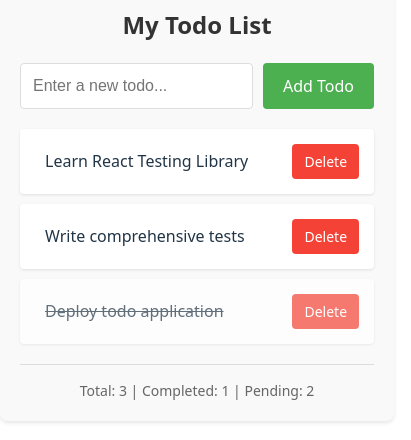
Test case: TodoList Component › deletes a todo when delete button is clicked
expect the text "Learn React Testing Library" is shown: met, box [45,150,248,172]
expect the text "Write comprehensive tests" is shown: met, box [45,226,245,248]
What coordinates should you click on to do the following:
click the button with test id "delete-button-1"
I would click on:
 (326, 162)
Its box is [292,144,359,179].
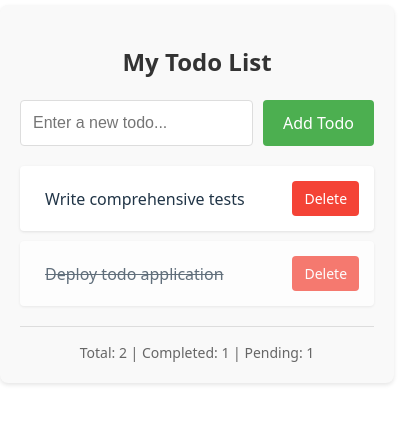
expect the text "Write comprehensive tests" is shown: met, box [45,188,245,210]
expect the text "Learn React Testing Library" is gone: met
expect the text "Total: 2 | Completed: 1 | Pending: 1" is shown: met, box [80,344,314,362]
